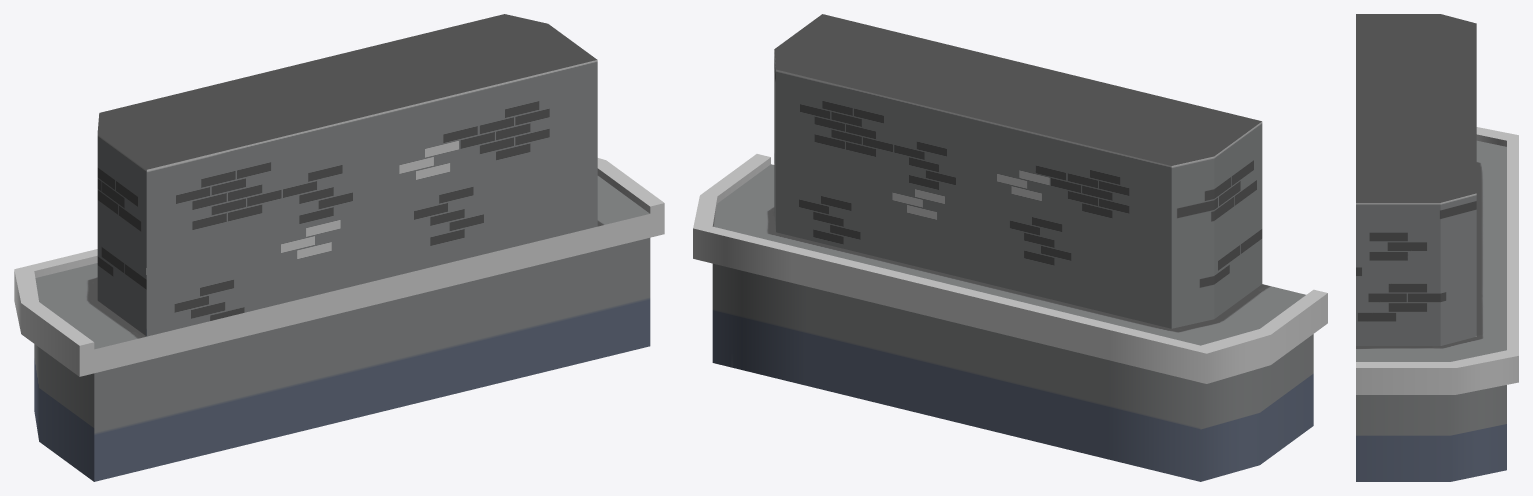
The model's file is Bridge3Beam0End.fbx.
3 views of the same model, side by side, from view 1: azimuth 30°, elevation 25°; view 2: azimuth 150°, elevation 25°; view 3: azimuth 270°, elevation 25° (orthographic). The views are drawn at different scales.
Parts seen in each view (by area): view 1: Bridge3Beam0End; view 2: Bridge3Beam0End; view 3: Bridge3Beam0End.
Part boxes in pixels (left/top/right/bottom): Bridge3Beam0End: left=14, top=14, right=664, bottom=481; Bridge3Beam0End: left=693, top=14, right=1327, bottom=481; Bridge3Beam0End: left=1356, top=14, right=1518, bottom=481.
Bounding box in the file's own units: 19.83 × 9.69 × 5.56.
